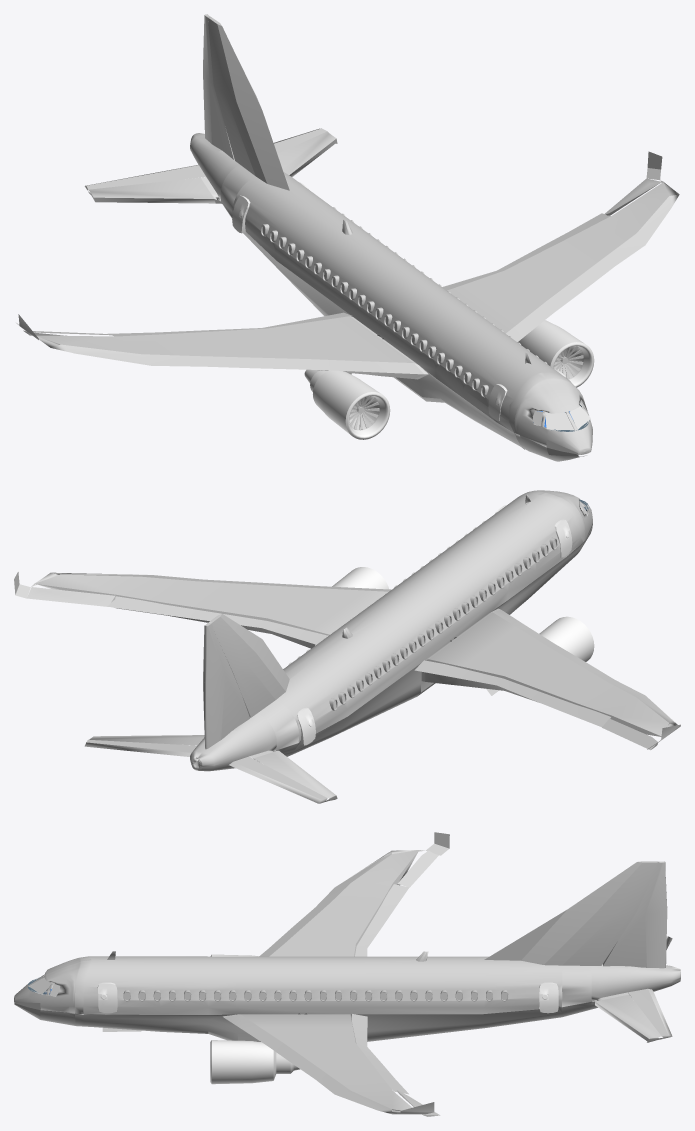
File: airbus-a320.uncompressed.glb
The picture shows the model from 3 angles, top to bottom: view 1: azimuth 30°, elevation 25°; view 2: azimuth 150°, elevation 25°; view 3: azimuth 270°, elevation 25°; orthographic projection. The views are drawn at different scales.
Parts seen in each view (by area): view 1: Body, Right Engine, Windows, Left Engine, Rear Aileron, Rear Right Flaps, Front Left Flaps, Windshield, Front Right Flaps; view 2: Body, Rear Aileron, Windows, Front Right Flaps, Front Left Flaps, Right Engine, Rear Right Flaps, Rear Left Flaps, Left Aileron, Left Engine, Right Aileron, Rear Right Door (+1 smaller); view 3: Body, Rear Aileron, Left Engine, Windows, Front Right Flaps, Front Left Flaps, Rear Left Flaps, Front Left Door, Rear Left Door, Right Aileron.
Part boxes in pixels (x1,y1,x2,y2): Body: (16, 16, 679, 461); Right Engine: (304, 369, 390, 439); Windows: (261, 207, 555, 397); Left Engine: (517, 320, 594, 387); Rear Aileron: (203, 14, 234, 159); Rear Right Flaps: (84, 165, 205, 190); Front Left Flaps: (442, 213, 610, 290); Windshield: (532, 401, 590, 430); Front Right Flaps: (108, 312, 351, 336); Body: (14, 490, 680, 801); Rear Aileron: (203, 623, 249, 749); Windows: (288, 521, 557, 710); Front Right Flaps: (414, 660, 610, 727); Front Left Flaps: (108, 596, 328, 644); Right Engine: (539, 616, 594, 661); Rear Right Flaps: (229, 756, 327, 803); Rear Left Flaps: (84, 739, 196, 756); Left Aileron: (26, 587, 115, 606); Left Engine: (332, 567, 388, 589); Right Aileron: (602, 718, 657, 750); Rear Right Door: (297, 707, 315, 745); Body: (14, 832, 680, 1114); Rear Aileron: (603, 861, 667, 968); Left Engine: (210, 1040, 299, 1084); Windows: (123, 990, 508, 1001); Front Right Flaps: (355, 884, 409, 956); Front Left Flaps: (352, 1014, 408, 1094); Rear Left Flaps: (628, 988, 672, 1038); Front Left Door: (97, 982, 117, 1012); Rear Left Door: (539, 982, 558, 1013); Right Aileron: (397, 850, 438, 887).
Bounding box in the file's own units: 12.43 × 3.82 × 12.99.
29 materials, 9 textured.
